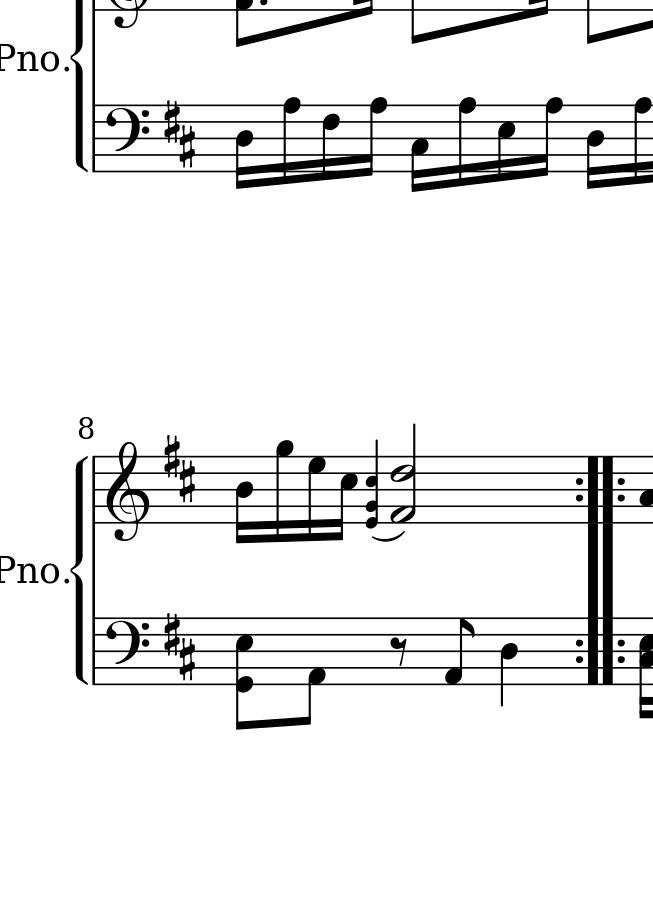16_3: (409, 102, 429, 195)
16_4: (585, 101, 605, 191), (234, 102, 254, 191), (234, 455, 254, 544)
16_5: (331, 456, 359, 543), (495, 101, 517, 186)
16_6: (321, 101, 341, 184)
16_7: (306, 450, 326, 547)
16_8: (533, 97, 565, 177), (358, 97, 389, 177), (455, 94, 477, 191), (280, 95, 302, 189), (632, 94, 653, 189)
16_9: (274, 433, 294, 550)
2_1_6: (389, 423, 418, 526)
4_4: (499, 617, 519, 709)
8: (77, 414, 95, 440)
8_0_5: (235, 616, 254, 731)
8_1: (297, 615, 327, 726), (441, 615, 475, 686)
Brace: (72, 453, 88, 685)
D_S: (161, 97, 200, 168), (161, 430, 197, 503), (162, 610, 197, 681)
Fclef: (103, 614, 149, 686), (103, 102, 148, 174)
Gclef: (105, 437, 149, 543)
Pno: (1, 40, 63, 77), (1, 554, 60, 587)
Rests8: (389, 635, 409, 667)
RightAndLeftRepeatSign: (574, 617, 628, 684), (575, 454, 627, 523)
Single_barline: (88, 617, 102, 686), (88, 458, 103, 522), (88, 106, 102, 171)
Slur: (372, 529, 405, 543)
